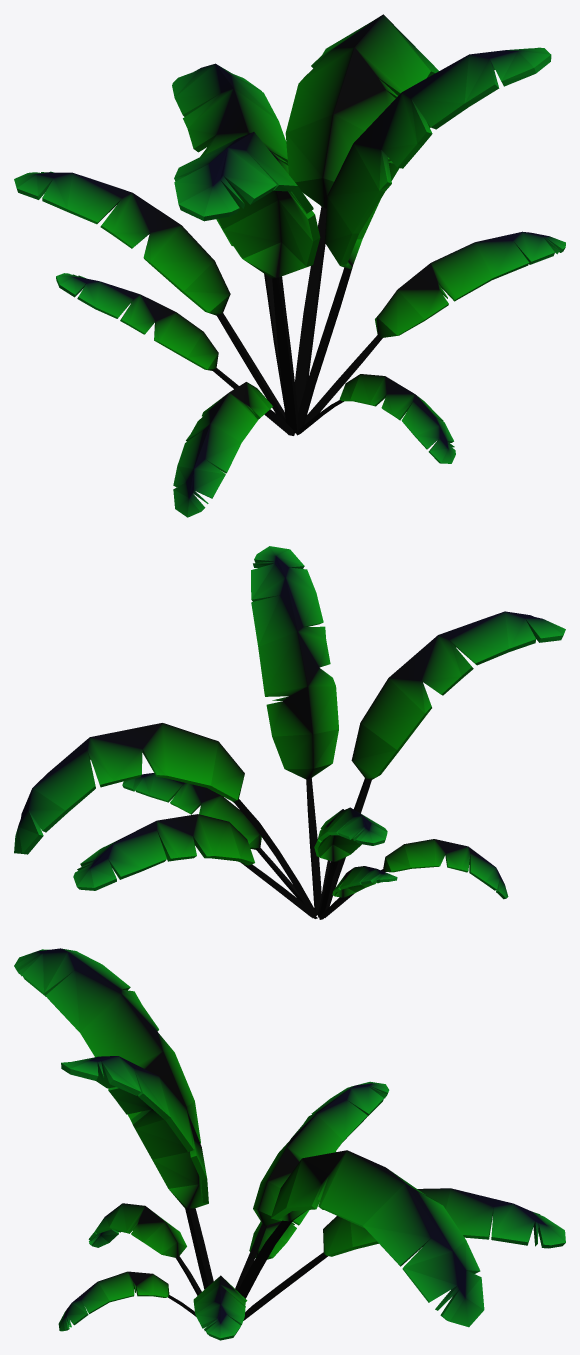
The model's file is ShrubFernTall04.fbx.
The picture shows the model from 3 angles, top to bottom: view 1: azimuth 30°, elevation 25°; view 2: azimuth 150°, elevation 25°; view 3: azimuth 270°, elevation 25°; orthographic projection. The views are drawn at different scales.
Visible parts, largest first — view 1: ShrubFernTall04_LOD0; view 2: ShrubFernTall04_LOD0; view 3: ShrubFernTall04_LOD0.
Boxes of the visible parts, <box> form: ShrubFernTall04_LOD0: <box>14,14,565,517</box>; ShrubFernTall04_LOD0: <box>14,546,565,919</box>; ShrubFernTall04_LOD0: <box>14,948,565,1340</box>.
Size of what is drawn, in the model's own units: 311 by 238 by 365.
